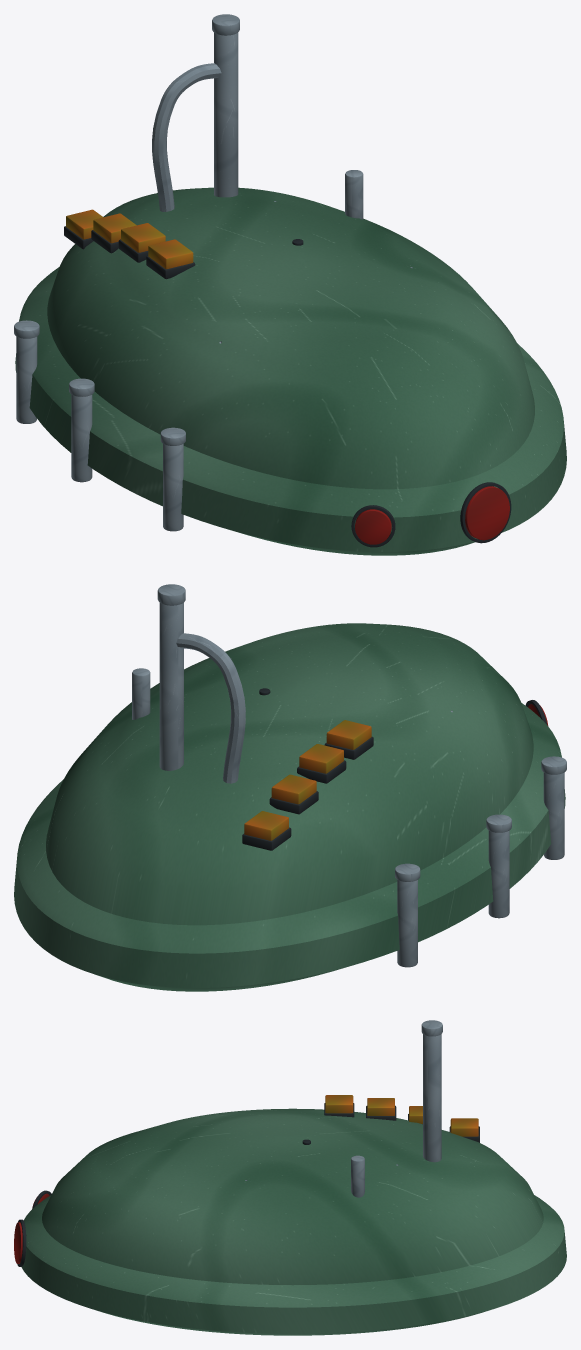
3 renders of one model, top to bottom at view 1: azimuth 30°, elevation 25°; view 2: azimuth 150°, elevation 25°; view 3: azimuth 270°, elevation 25°, orthographic. The views are drawn at different scales.
Visible parts, largest first — view 1: Filtration Tanks broad green metal carapace, Filtration Tanks tall rear silver upright, Filtration Tanks connected return bend, Filtration Tanks red front inset 1, Filtration Tanks pale side fitting 2, Filtration Tanks pale side fitting 1, Filtration Tanks pale side fitting 0, Filtration Tanks red front inset 0, Filtration Tanks amber roof module 0, Filtration Tanks separate short roof upright, Filtration Tanks amber roof module 1, Filtration Tanks amber roof module 2 (+1 smaller); view 2: Filtration Tanks broad green metal carapace, Filtration Tanks tall rear silver upright, Filtration Tanks connected return bend, Filtration Tanks pale side fitting 0, Filtration Tanks pale side fitting 1, Filtration Tanks pale side fitting 2, Filtration Tanks amber roof module 2, Filtration Tanks amber roof module 0, Filtration Tanks amber roof module 3, Filtration Tanks amber roof module 1, Filtration Tanks separate short roof upright, Filtration Tanks silver upright cap (+2 smaller); view 3: Filtration Tanks broad green metal carapace, Filtration Tanks tall rear silver upright, Filtration Tanks separate short roof upright, Filtration Tanks amber roof module 0, Filtration Tanks amber roof module 3, Filtration Tanks amber roof module 1.
Boxes of the visible parts, bbox=[...] form: Filtration Tanks broad green metal carapace: bbox=[15, 187, 566, 555]; Filtration Tanks tall rear silver upright: bbox=[214, 32, 238, 197]; Filtration Tanks connected return bend: bbox=[152, 63, 221, 211]; Filtration Tanks red front inset 1: bbox=[465, 486, 509, 540]; Filtration Tanks pale side fitting 2: bbox=[163, 444, 183, 531]; Filtration Tanks pale side fitting 1: bbox=[71, 394, 92, 482]; Filtration Tanks pale side fitting 0: bbox=[16, 336, 37, 423]; Filtration Tanks red front inset 0: bbox=[355, 509, 391, 544]; Filtration Tanks amber roof module 0: bbox=[148, 239, 193, 269]; Filtration Tanks separate short roof upright: bbox=[345, 170, 363, 219]; Filtration Tanks amber roof module 1: bbox=[121, 223, 165, 252]; Filtration Tanks amber roof module 2: bbox=[93, 213, 136, 243]; Filtration Tanks broad green metal carapace: bbox=[14, 623, 565, 991]; Filtration Tanks tall rear silver upright: bbox=[159, 602, 183, 770]; Filtration Tanks connected return bend: bbox=[176, 633, 245, 783]; Filtration Tanks pale side fitting 0: bbox=[397, 880, 417, 967]; Filtration Tanks pale side fitting 1: bbox=[488, 830, 509, 918]; Filtration Tanks pale side fitting 2: bbox=[543, 772, 564, 859]; Filtration Tanks amber roof module 2: bbox=[271, 774, 316, 804]; Filtration Tanks amber roof module 0: bbox=[326, 720, 371, 749]; Filtration Tanks amber roof module 3: bbox=[244, 811, 288, 840]; Filtration Tanks amber roof module 1: bbox=[299, 744, 343, 773]; Filtration Tanks separate short roof upright: bbox=[132, 668, 150, 719]; Filtration Tanks silver upright cap: bbox=[157, 584, 185, 605]; Filtration Tanks broad green metal carapace: bbox=[21, 1108, 566, 1335]; Filtration Tanks tall rear silver upright: bbox=[423, 1034, 441, 1162]; Filtration Tanks separate short roof upright: bbox=[351, 1155, 364, 1197]; Filtration Tanks amber roof module 0: bbox=[325, 1095, 353, 1113]; Filtration Tanks amber roof module 3: bbox=[450, 1118, 478, 1136]; Filtration Tanks amber roof module 1: bbox=[367, 1098, 394, 1115].
Size of the model in its own units: 1.62 by 1.21 by 2.38.
5 materials, 4 textured.
